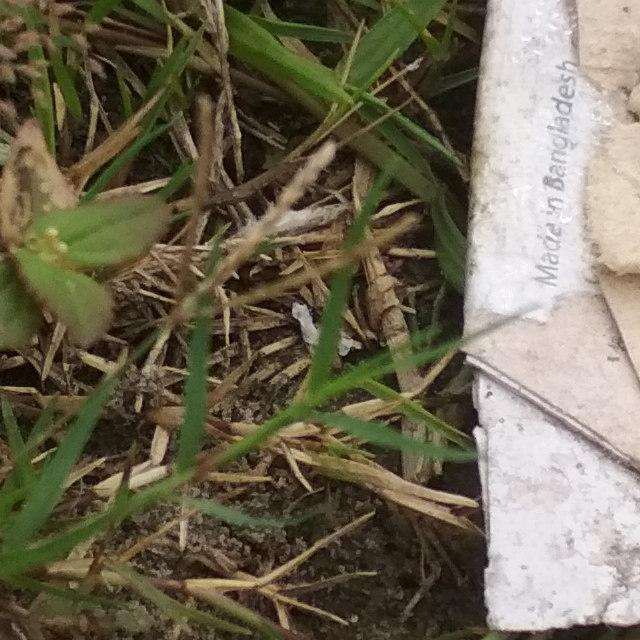paper: (404, 0, 640, 640)
